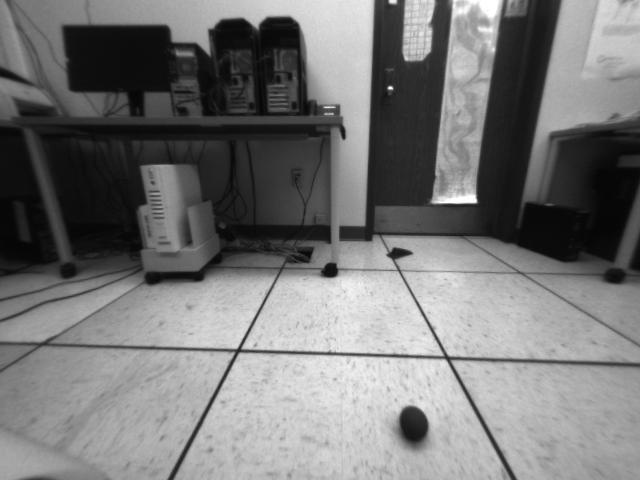dogtoy: (392, 398, 436, 446)
